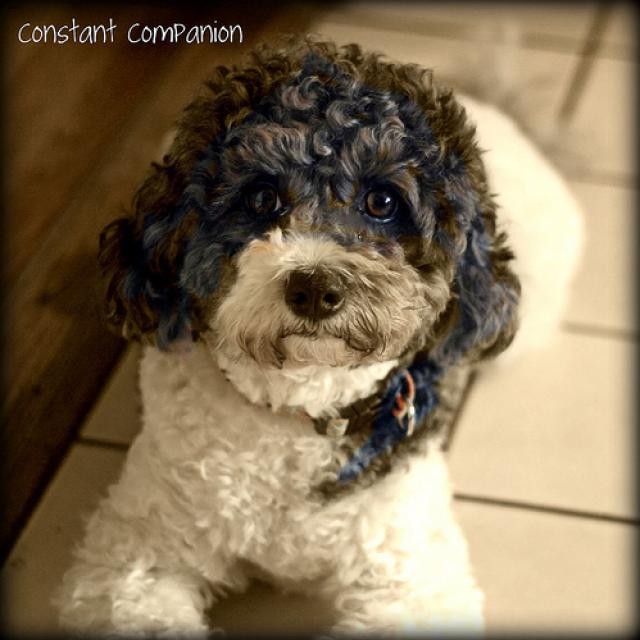dog-havanese: (38, 24, 595, 637)
